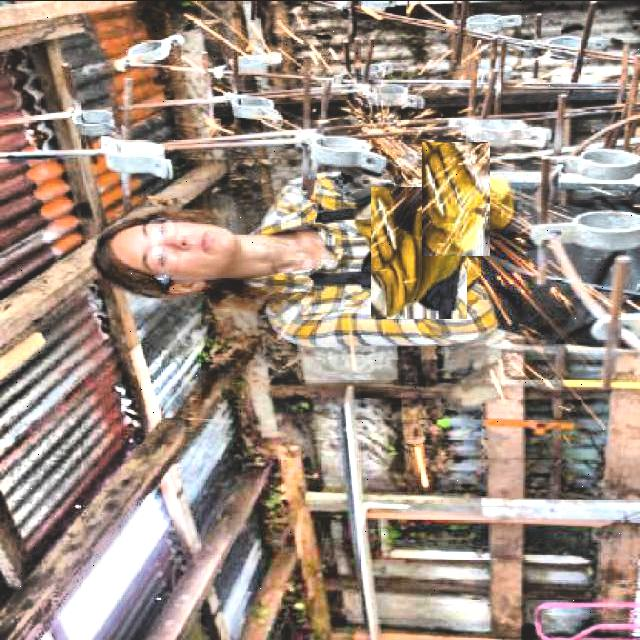gloved: (362, 194, 476, 308), (410, 152, 502, 244)
